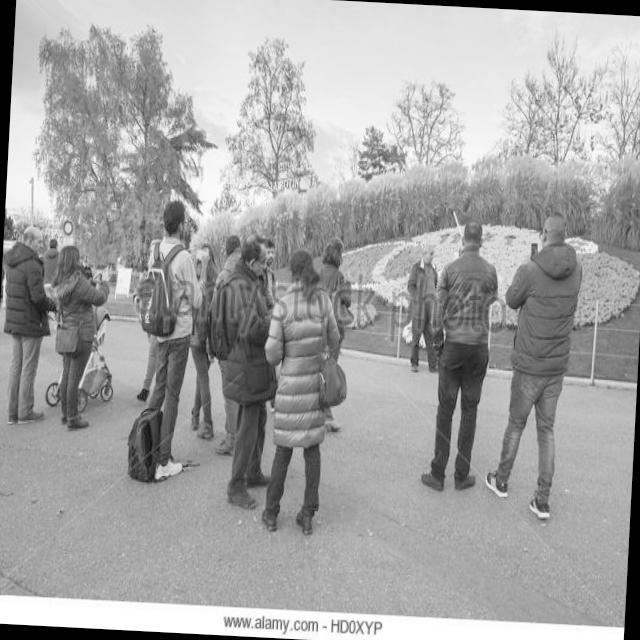person: (484, 209, 590, 514), (254, 244, 348, 536), (122, 200, 211, 488), (194, 229, 286, 502), (418, 217, 504, 494), (41, 240, 112, 430), (0, 225, 62, 425), (402, 245, 444, 376), (315, 238, 356, 332), (256, 235, 286, 306), (218, 229, 244, 275), (40, 238, 60, 284)
